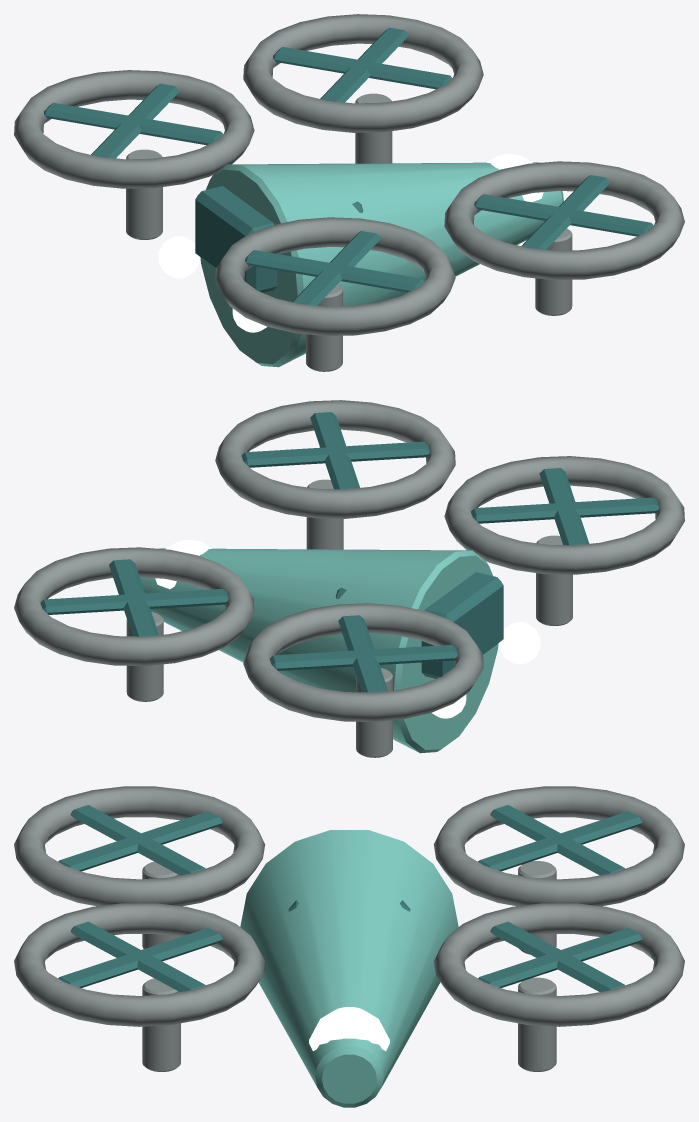
Rendered from enemy_drone.glb.
3 views of the same model, one above another, from view 1: azimuth 30°, elevation 25°; view 2: azimuth 150°, elevation 25°; view 3: azimuth 270°, elevation 25° (orthographic). The views are drawn at different scales.
Parts seen in each view (by area): view 1: Cone, Torus, Torus.001, Torus.002, Torus.003, Cube, Cube.004, Cube.002, Cube.006, Cube.008, Cylinder.003, Cube.005 (+8 smaller); view 2: Cone, Torus, Torus.003, Torus.002, Torus.001, Cube, Cube.001, Cube.007, Cube.005, Cube.003, Cylinder.001, Cube.004 (+8 smaller); view 3: Cone, Torus.002, Torus, Torus.003, Torus.001, Cube.004, Cube.008, Cube.002, Cube.006, Cube.001, Cube.005, Cube.007 (+6 smaller).
Part boxes in pixels (x1,y1,x2,y2): Cone: (200,162,563,367); Torus: (444,161,684,279); Torus.001: (215,217,455,335); Torus.002: (243,14,483,132); Torus.003: (14,70,254,188); Cube: (195,186,363,292); Cube.004: (245,250,424,292); Cube.002: (474,194,653,236); Cube.006: (273,47,452,89); Cube.008: (44,102,223,145); Cylinder.003: (126,149,162,239); Cube.005: (320,27,408,102); Cone: (140,548,498,753); Torus: (215,400,455,518); Torus.003: (243,603,483,721); Torus.002: (14,547,254,665); Torus.001: (444,456,684,574); Cube: (335,572,503,678); Cube.001: (241,441,429,467); Cube.007: (269,644,457,670); Cube.005: (40,589,228,614); Cube.003: (471,497,658,523); Cylinder.001: (536,535,572,625); Cube.004: (539,468,589,545); Cone: (240,830,458,1107); Torus.002: (433,903,684,1026); Torus: (14,903,265,1026); Torus.003: (433,786,684,906); Torus.001: (14,786,265,906); Cube.004: (58,811,222,871); Cube.008: (478,811,642,871); Cube.002: (58,928,222,987); Cube.006: (478,928,642,987); Cube.001: (70,921,205,991); Cube.005: (490,921,624,991); Cube.007: (490,805,624,875).
Bounding box in the file's own units: 0.9539 × 0.3898 × 1.21.
